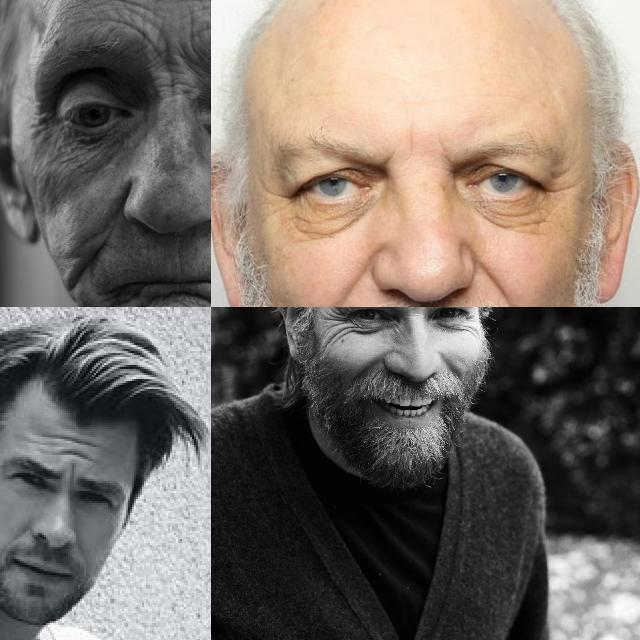chin: (127, 289, 167, 307), (180, 286, 211, 307), (89, 301, 122, 307)
crows_feet: (259, 178, 291, 216), (542, 171, 570, 209), (31, 104, 57, 136), (322, 307, 347, 337), (462, 312, 482, 338)
forehead: (46, 432, 98, 464), (109, 16, 148, 34), (187, 0, 211, 24), (90, 0, 141, 10)
frown_line: (146, 33, 198, 66), (156, 73, 194, 95), (402, 118, 418, 156), (66, 467, 78, 487), (408, 307, 422, 313)
gummy_smile: (471, 246, 513, 304), (91, 198, 127, 258), (332, 256, 370, 307), (66, 260, 90, 294), (358, 352, 384, 376), (442, 354, 466, 376)
smoker_lines: (172, 244, 188, 272)
